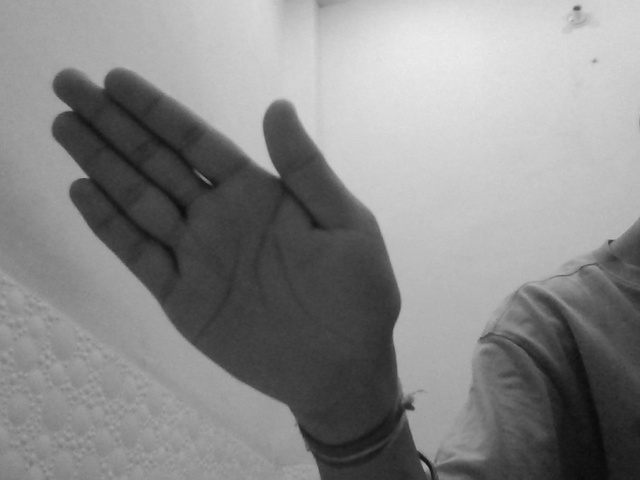Hello: (45, 67, 403, 415)
